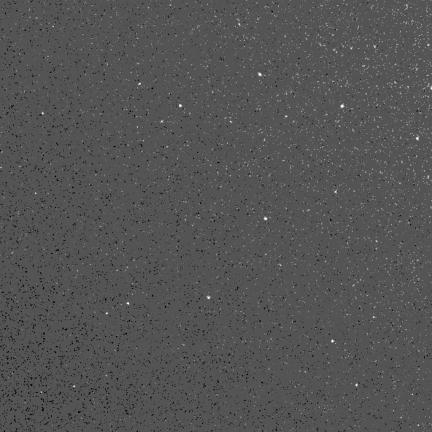blob: (179, 104, 183, 108), (416, 137, 420, 141), (258, 73, 262, 77), (331, 340, 335, 343), (341, 104, 344, 108), (138, 83, 142, 86), (285, 115, 288, 118), (356, 384, 359, 387), (127, 302, 130, 305), (207, 296, 210, 299), (264, 217, 267, 220), (335, 190, 337, 194), (42, 112, 44, 115), (106, 313, 108, 315)
